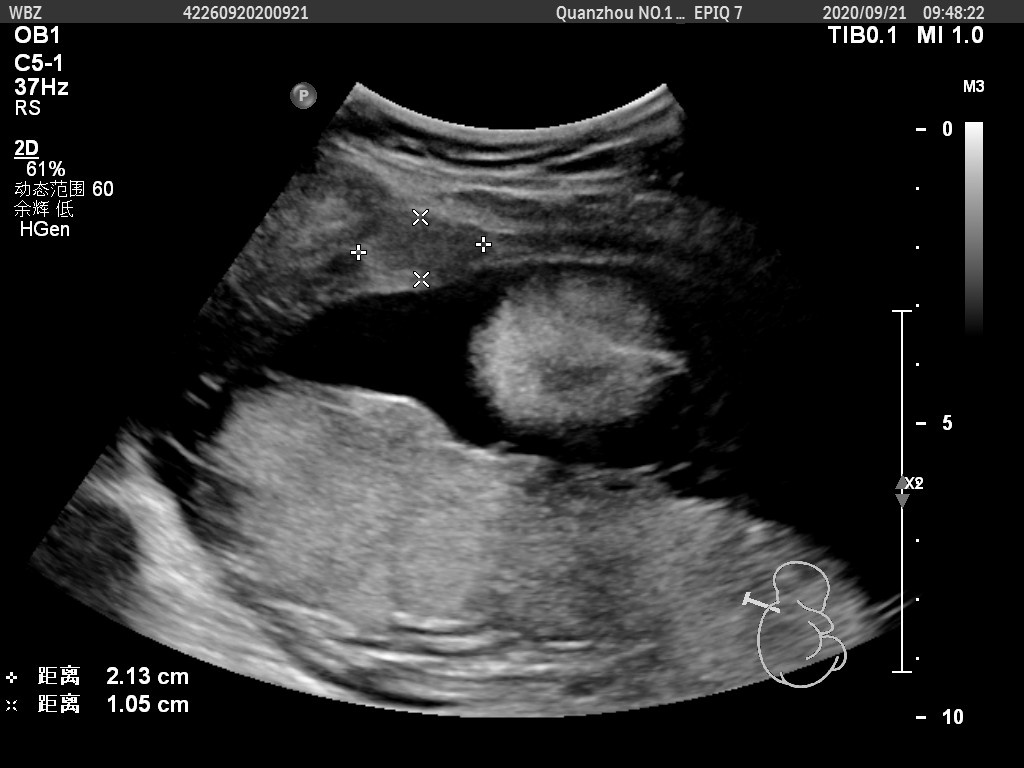肌瘤: (367, 218, 488, 277)
